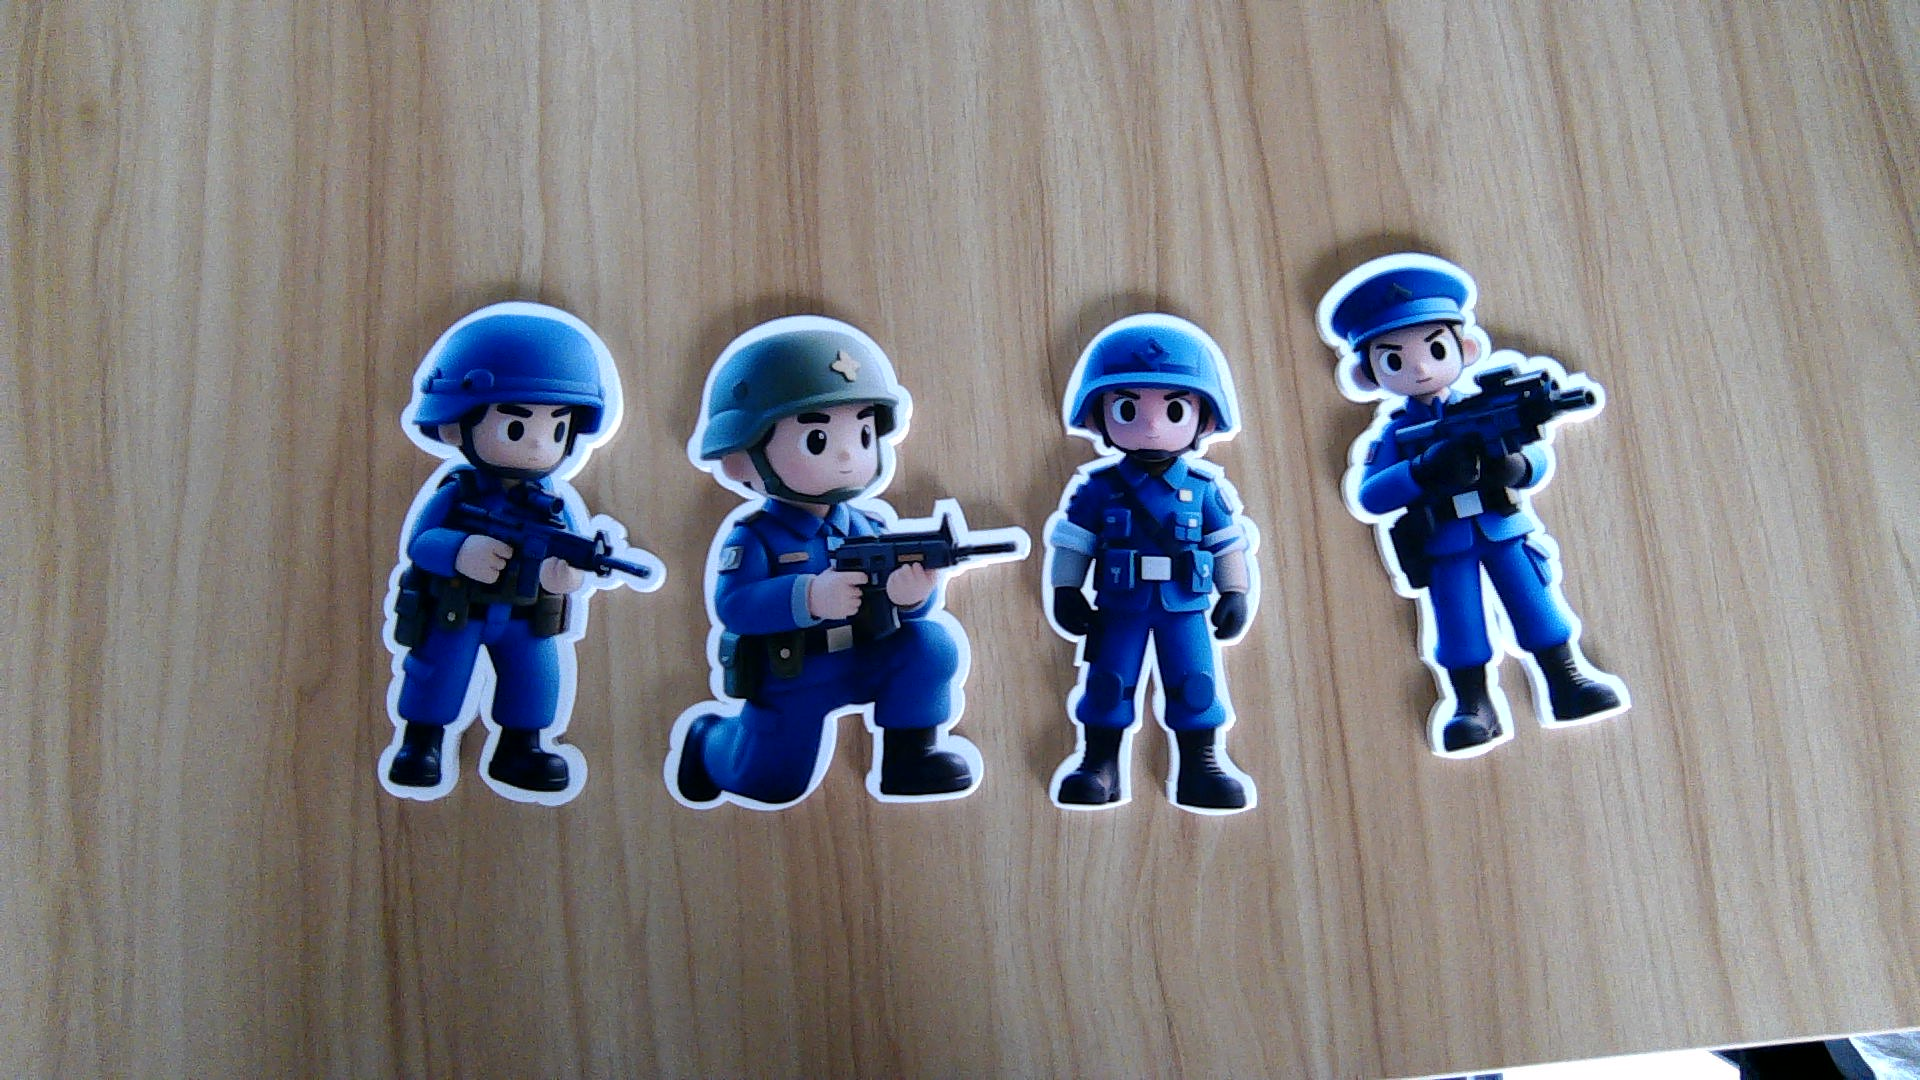敌人2: (662, 506, 1025, 816), (1337, 390, 1634, 760), (365, 477, 655, 807), (1034, 454, 1271, 819)
